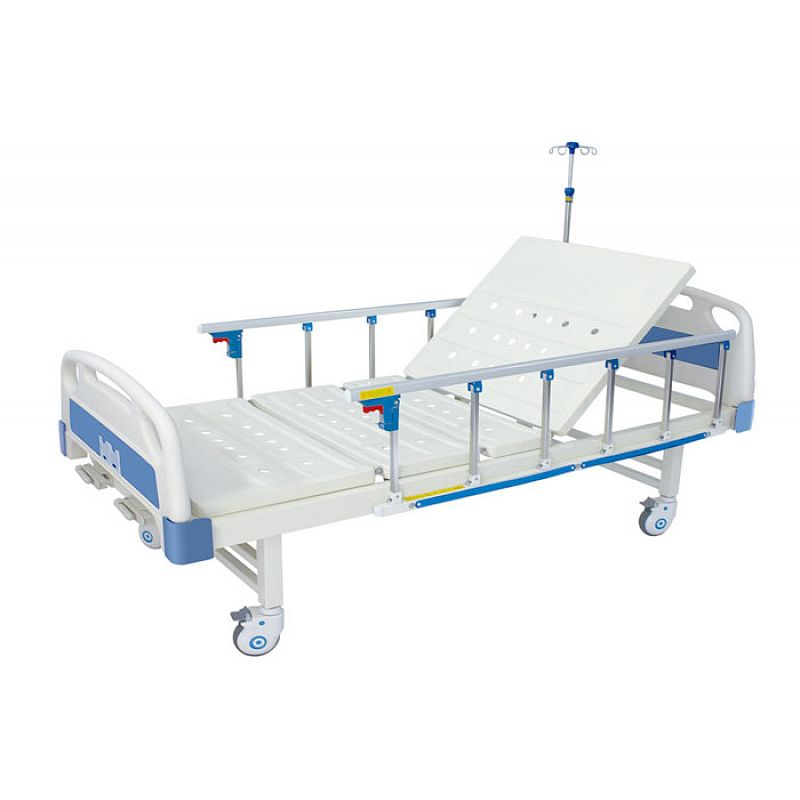trolley_bed: (56, 139, 757, 660)
